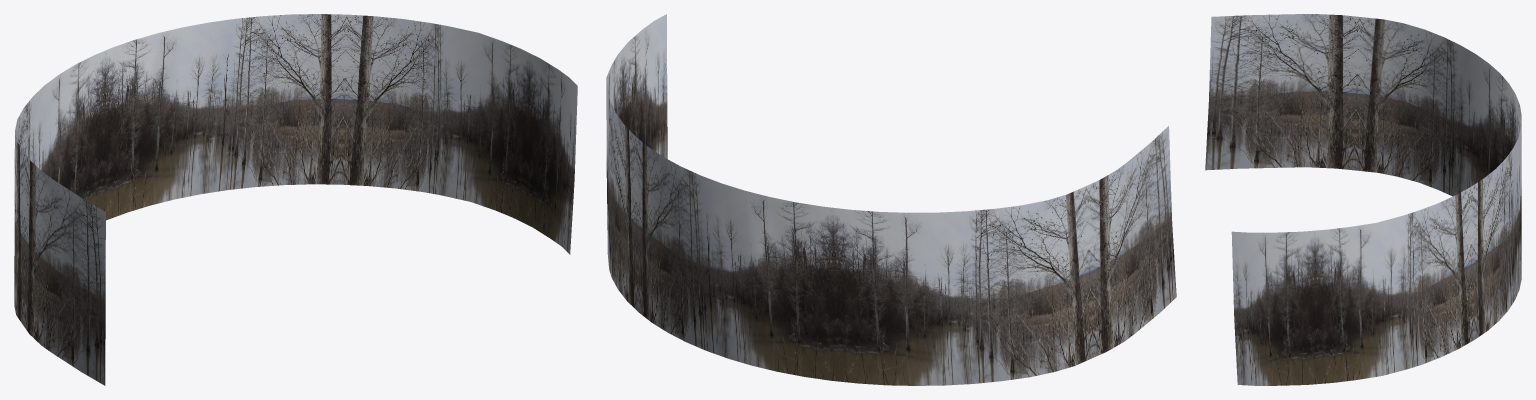
File: Background.glb
3 renders of one model, left to right at view 1: azimuth 30°, elevation 25°; view 2: azimuth 150°, elevation 25°; view 3: azimuth 270°, elevation 25°, orthographic. The views are drawn at different scales.
Visible parts, largest first — view 1: Plane.002; view 2: Plane.002; view 3: Plane.002.
Part boxes in pixels (box(x1,y1,x2,y2)): Plane.002: box(14, 14, 577, 385); Plane.002: box(606, 14, 1176, 385); Plane.002: box(1205, 14, 1521, 385).
Size of the model in its own units: 64.42 by 21.14 by 39.08.
Materials: 1 (1 with a texture image).
